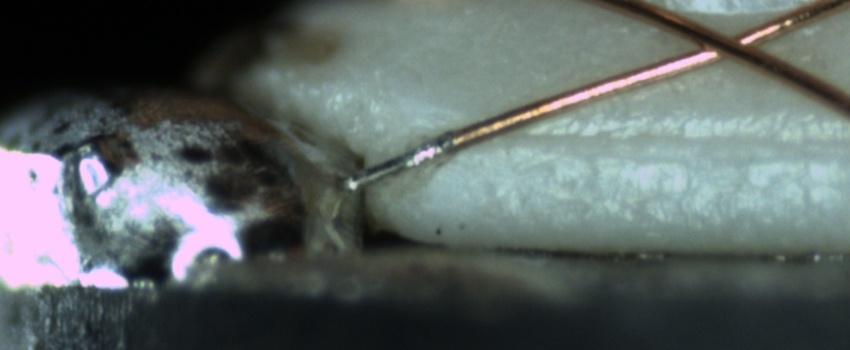CL: (670, 13, 777, 71)
DL: (430, 105, 850, 167)
TS: (351, 136, 452, 189)
TTCW: (348, 129, 469, 188)
